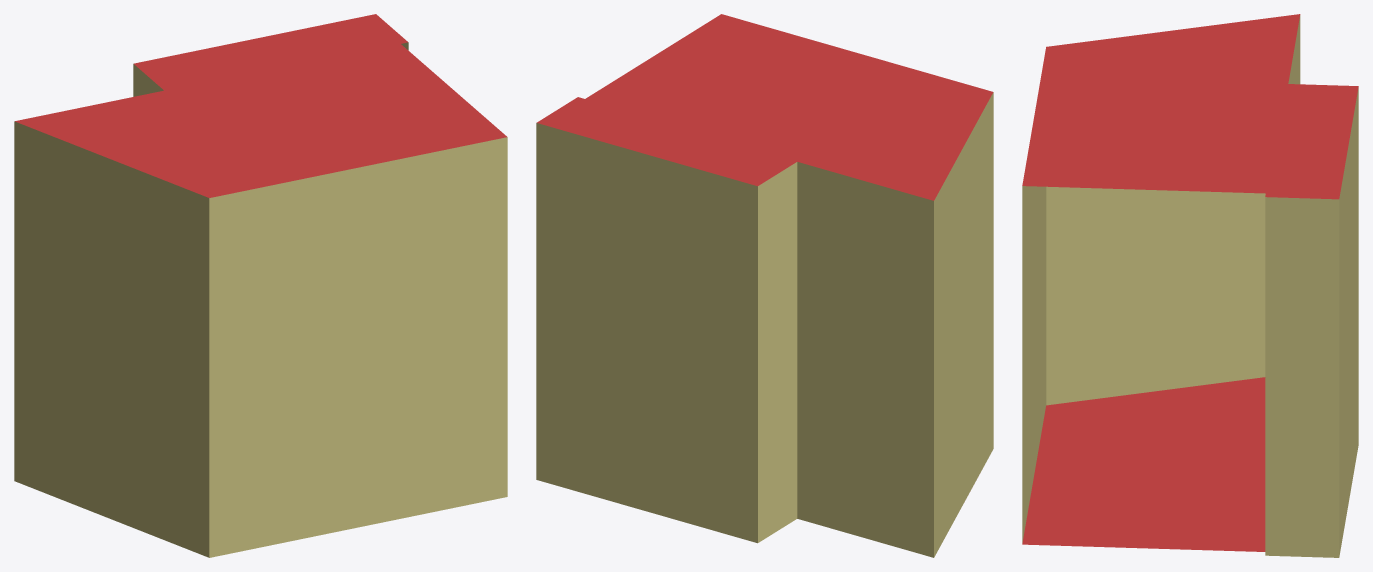
3 renders of one model, left to right at view 1: azimuth 30°, elevation 25°; view 2: azimuth 150°, elevation 25°; view 3: azimuth 270°, elevation 25°, orthographic.
Parts seen in each view (by area): view 1: group_4, group_3; view 2: group_4, group_3; view 3: group_4, group_3, group_5.
Part boxes in pixels (x1,y1,x2,y2): group_4: (14, 42, 507, 557); group_3: (15, 14, 506, 197); group_4: (536, 92, 993, 557); group_3: (536, 14, 993, 200); group_4: (1022, 15, 1358, 557); group_3: (1022, 14, 1358, 199); group_5: (1022, 377, 1265, 551).
Bounding box in the file's own units: 9.01 × 6.91 × 8.13.
